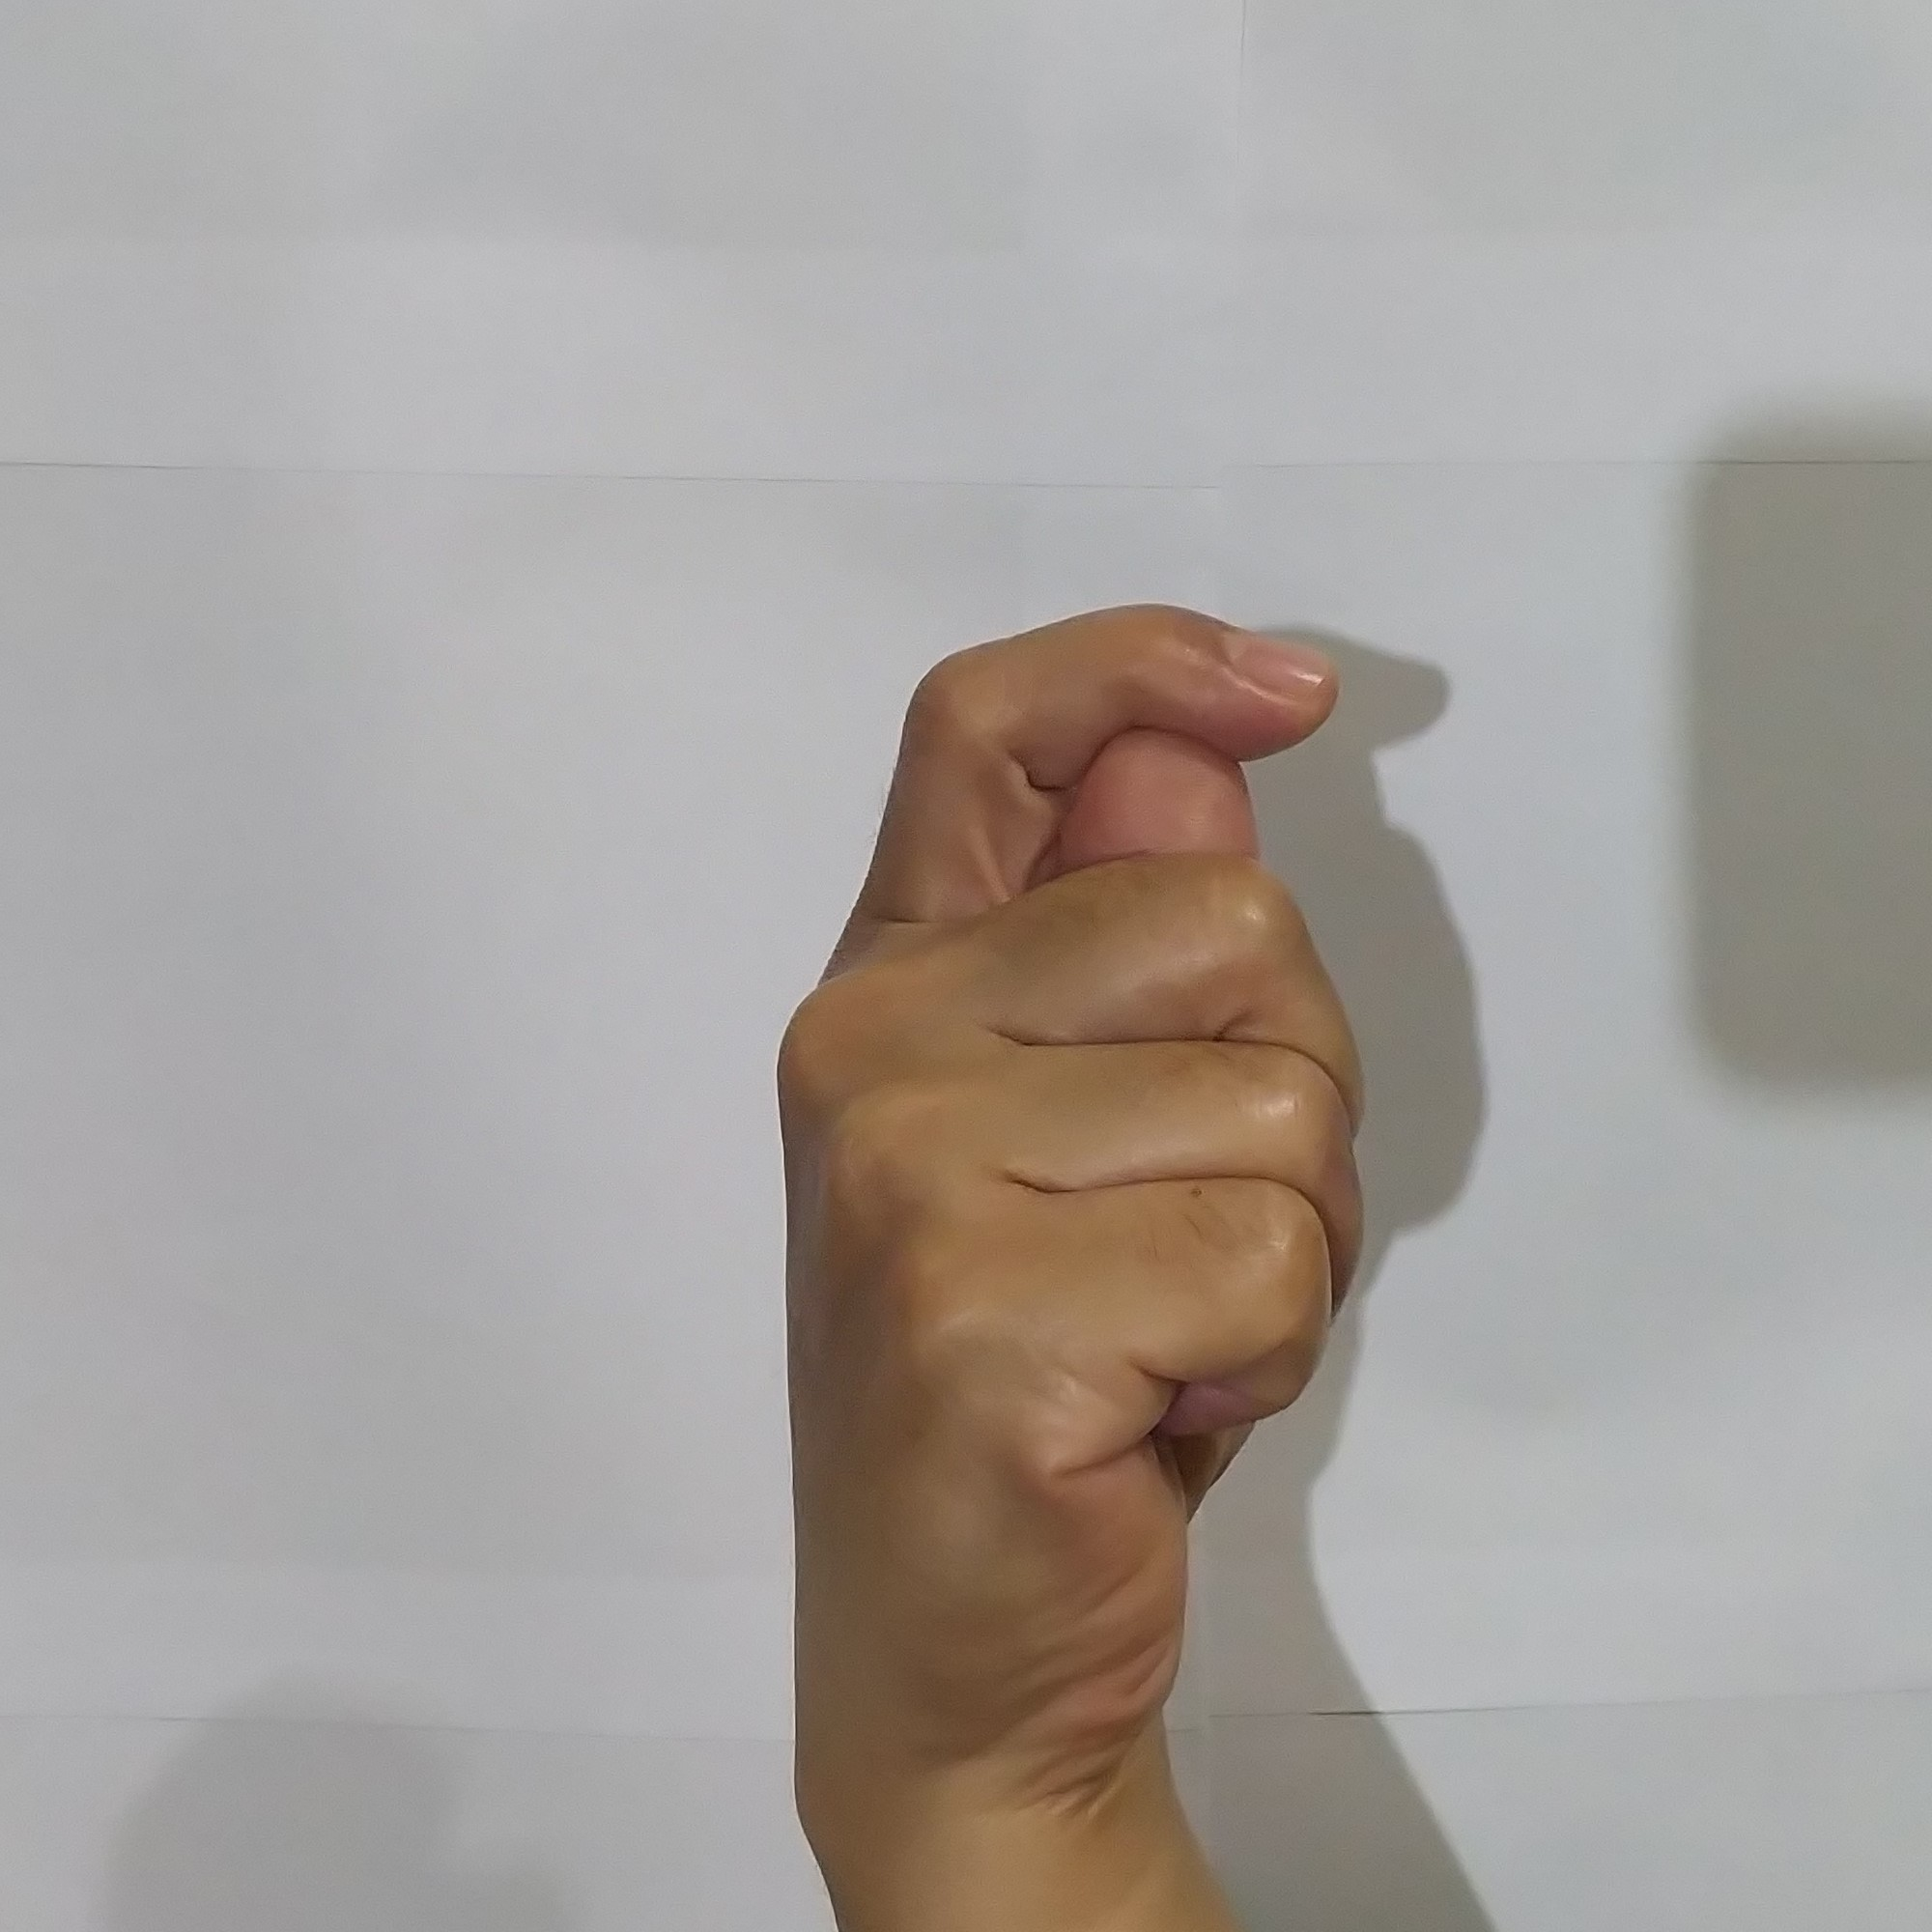T: (725, 570, 1399, 1760)
